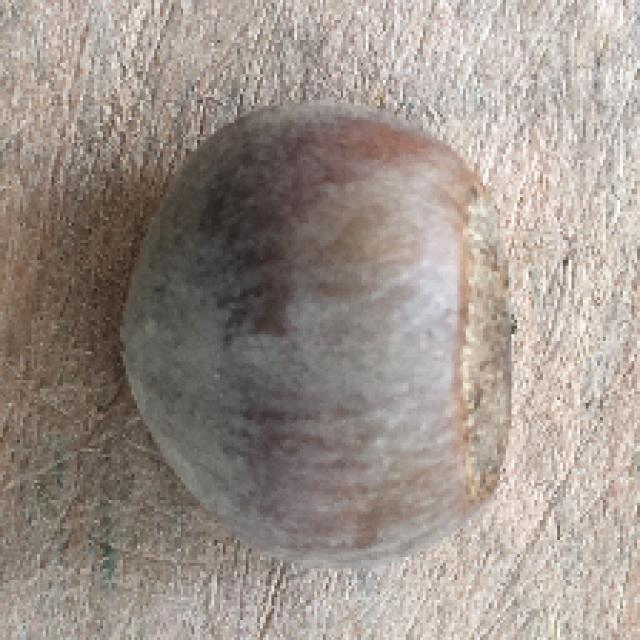DamagedHazelnut: (122, 98, 512, 566)
